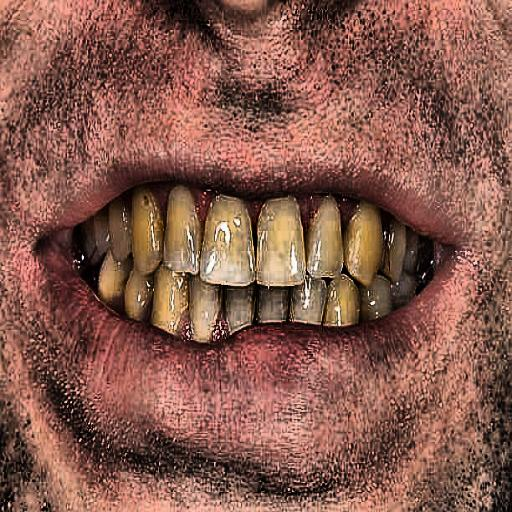Calculus: (86, 140, 461, 344)
